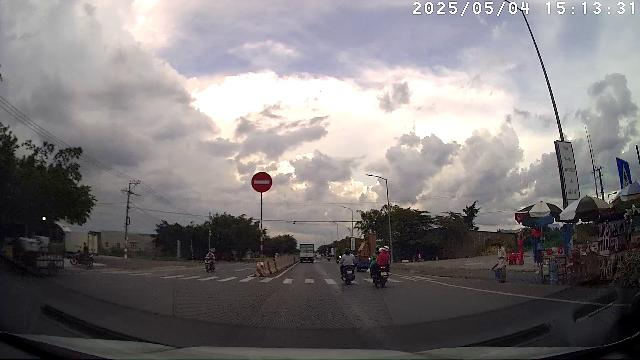102-cam-di-nguoc-chieu: (252, 172, 272, 192)
